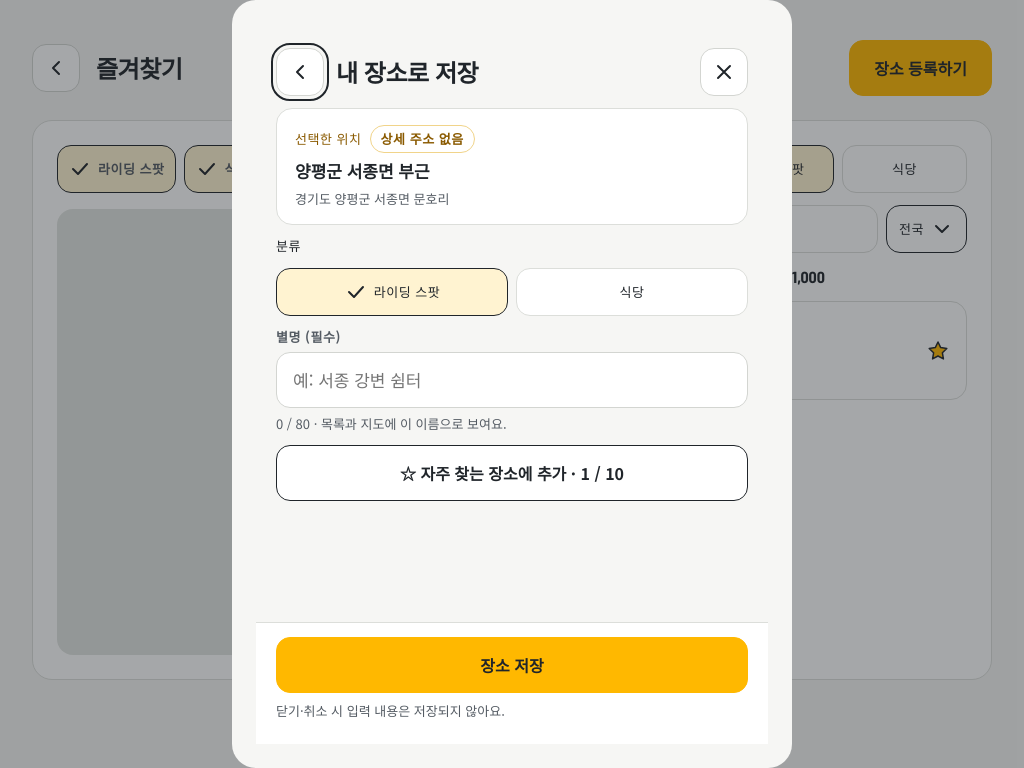
Scenario: keeps the input after a clear refusal and offers an immediate retry (FP39c)
Type "서종 강변 쉼터" into the field labelled "별명 (필수)". click: {"x": 512, "y": 380}
box: [276, 352, 748, 408]
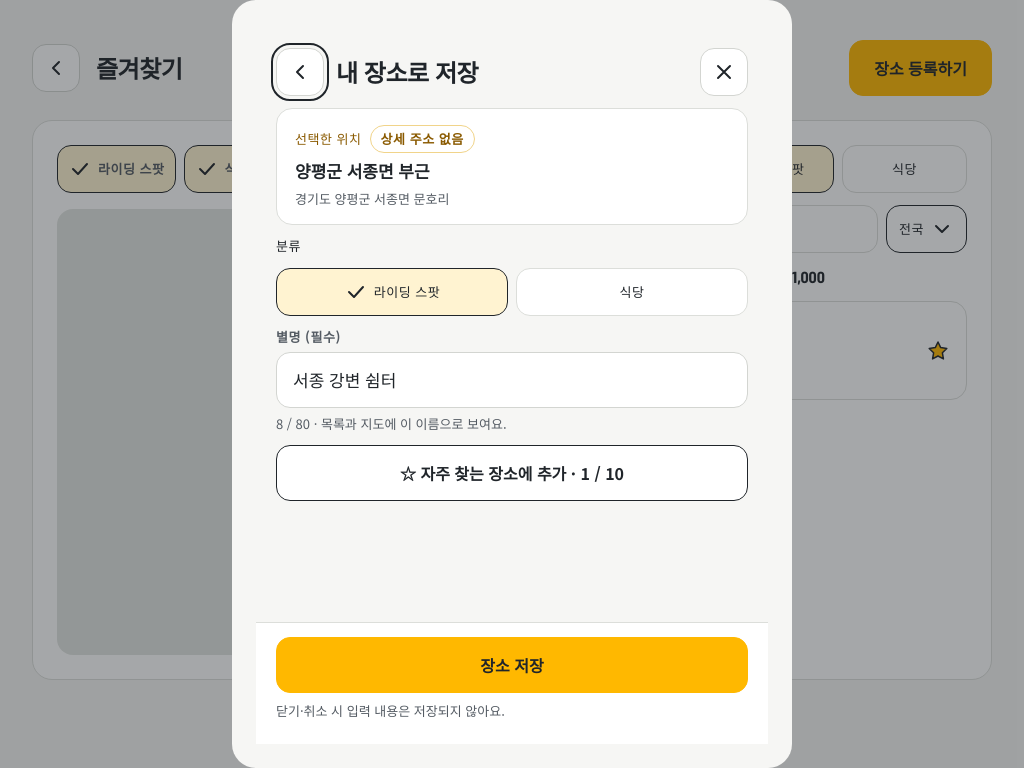
Click the button "☆ 자주 찾는 장소에 추가 · 1 / 10". click: {"x": 512, "y": 473}
box: [276, 445, 748, 501]
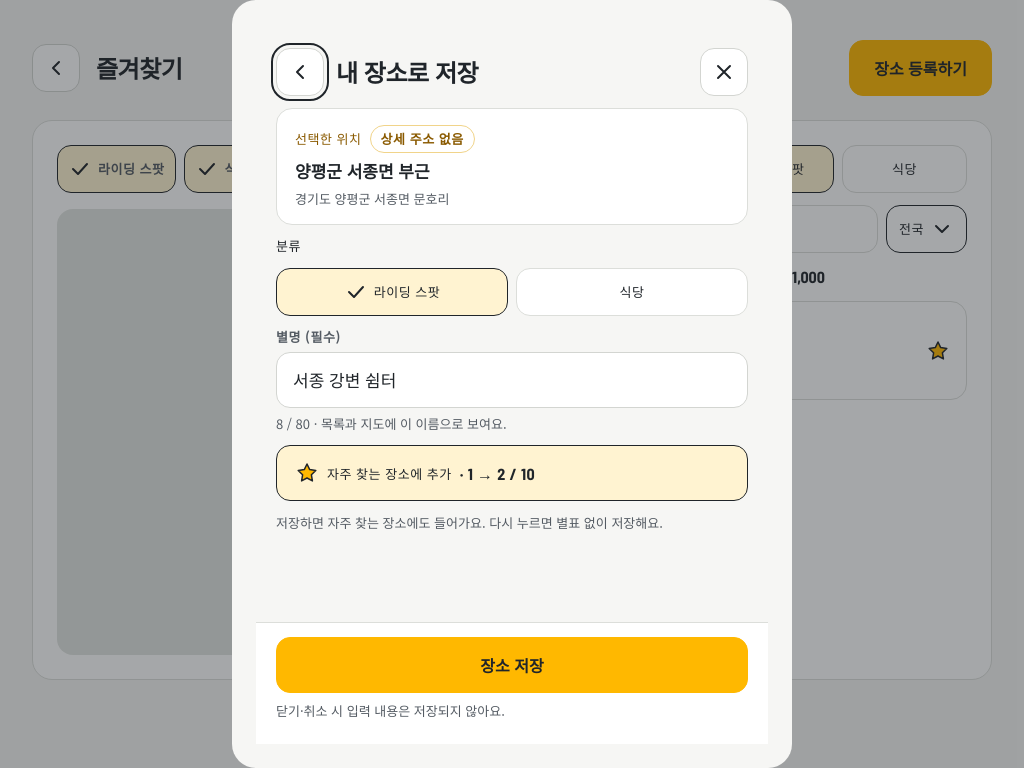
Click the button "장소 저장". click: {"x": 512, "y": 664}
box: [276, 636, 748, 692]
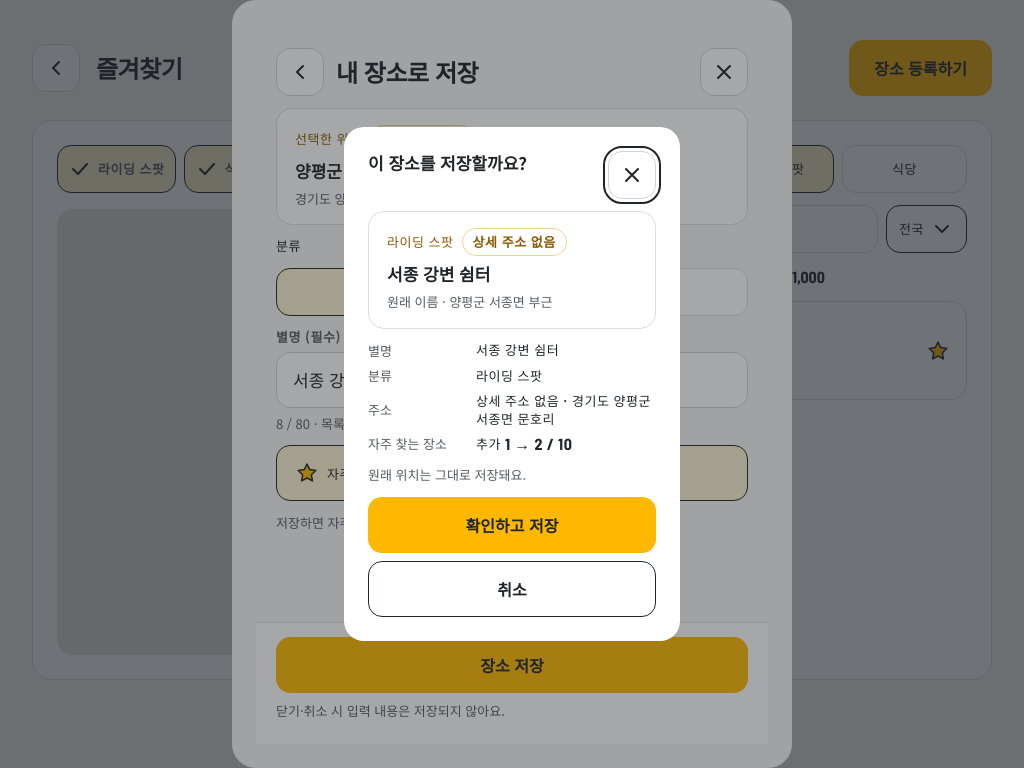
Click the button "확인하고 저장". click: {"x": 512, "y": 525}
box: [368, 497, 656, 553]
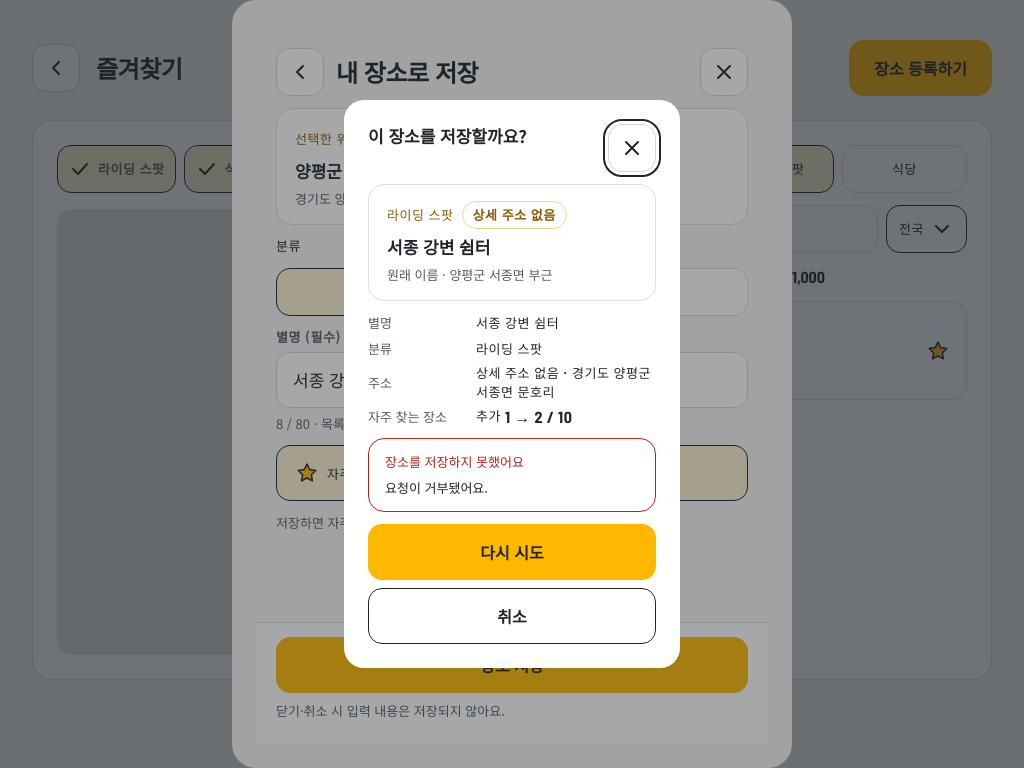
Result: the button "다시 시도" is enabled at [368, 524, 656, 580]
Result: the text "장소를 저장하지 못했어요" is shown at [385, 452, 524, 471]
